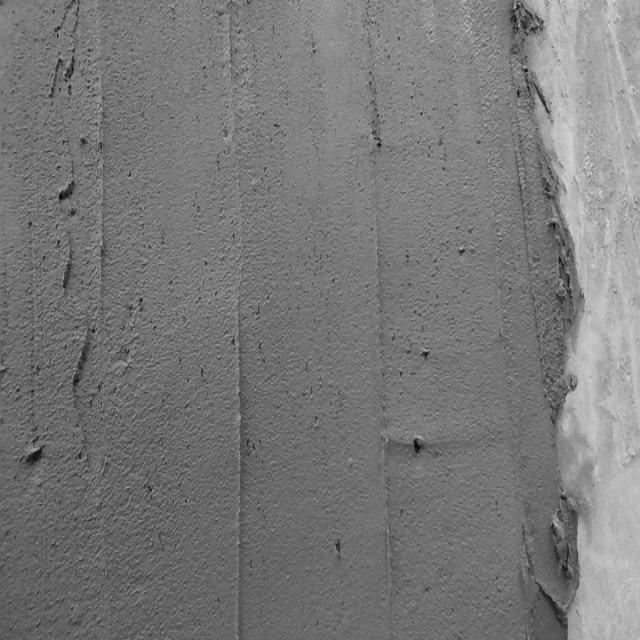trowels marks: (55, 18, 92, 457), (223, 134, 253, 640), (366, 160, 391, 640)
